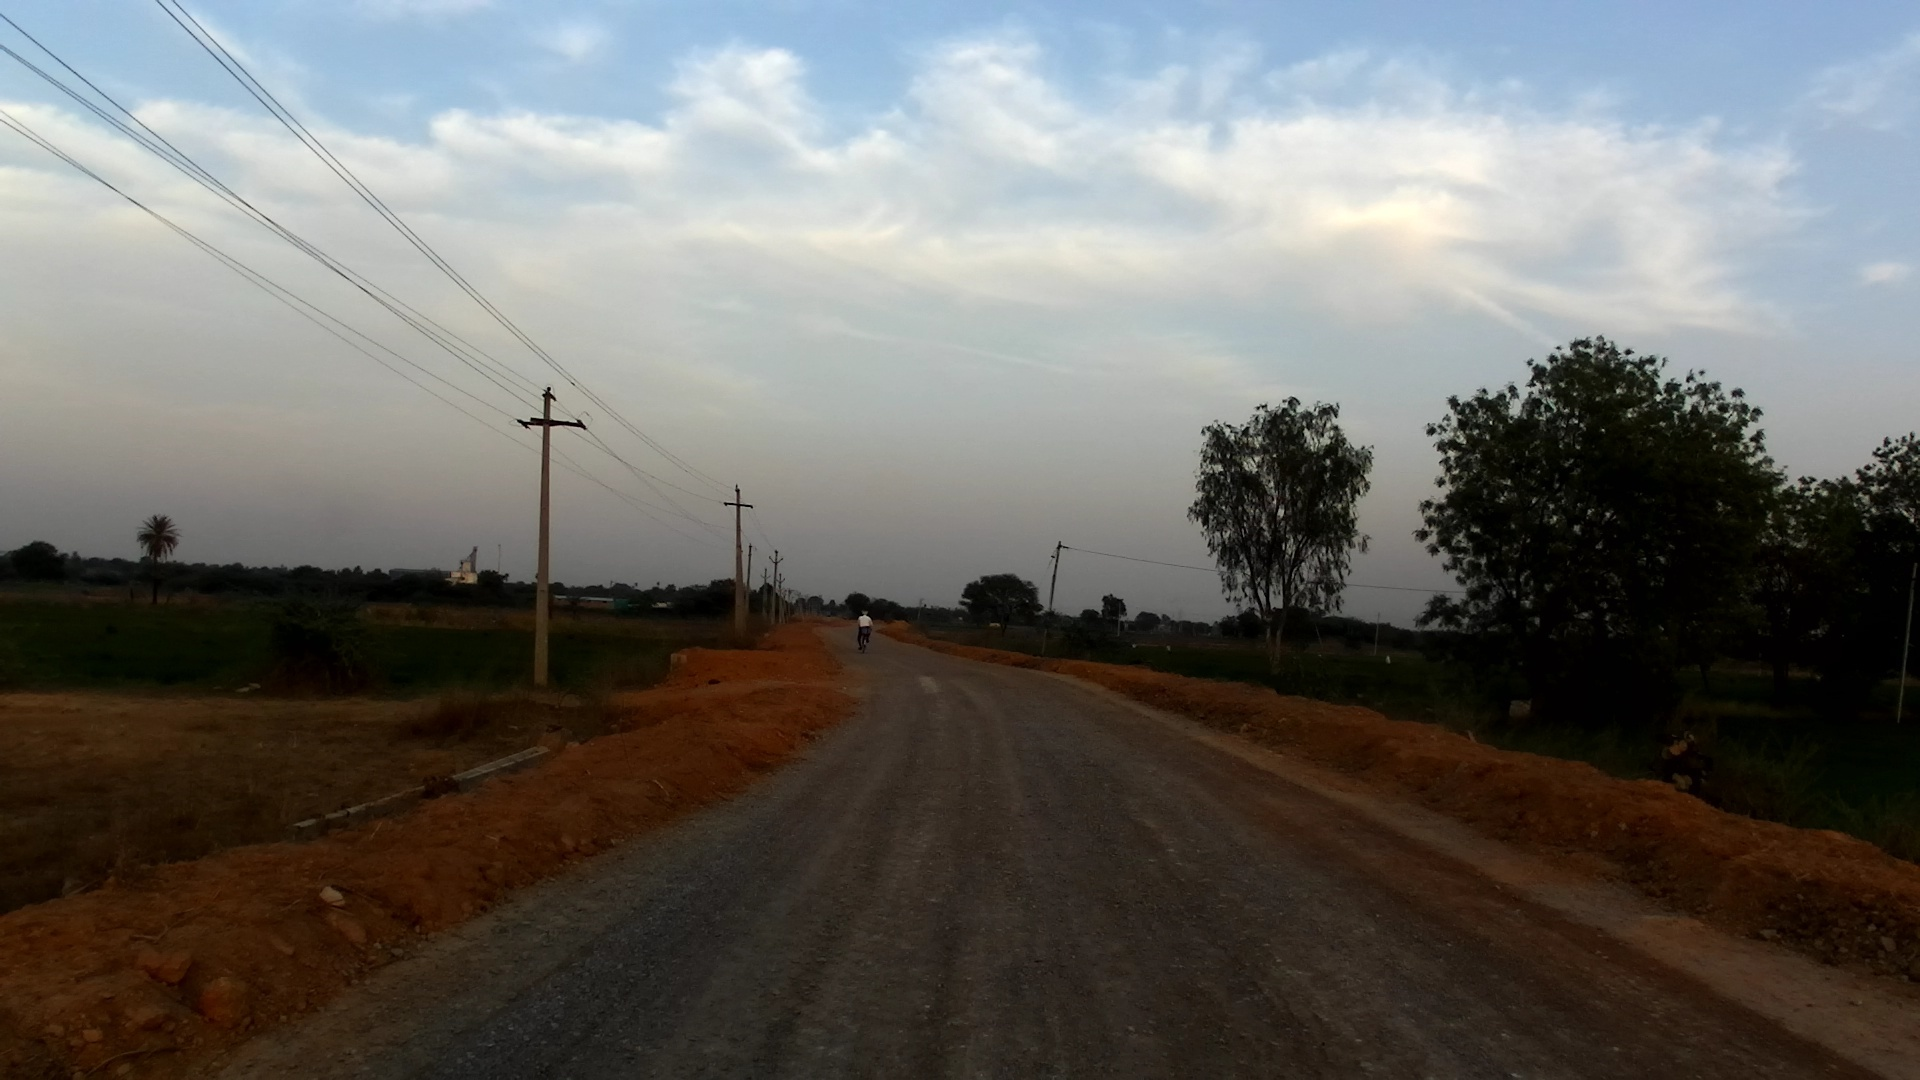bicycle: (856, 627, 873, 654)
rider: (854, 611, 873, 645)
